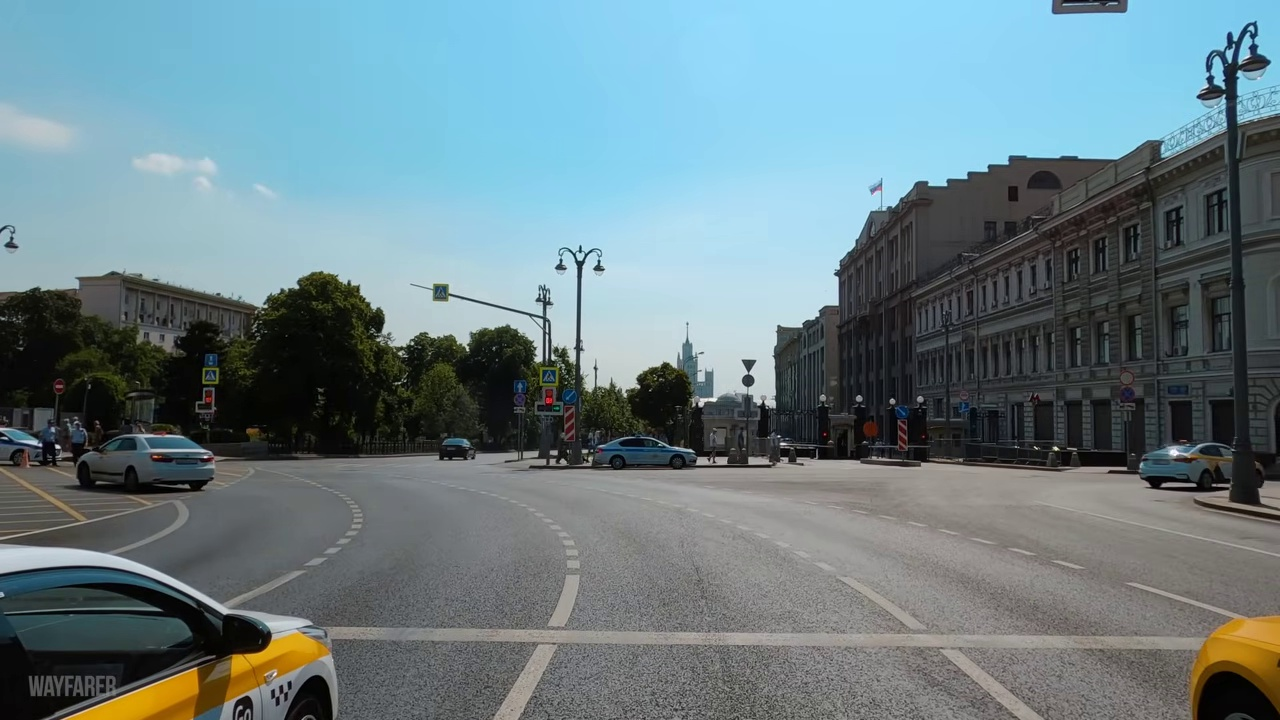apagada: (557, 250, 607, 281)
